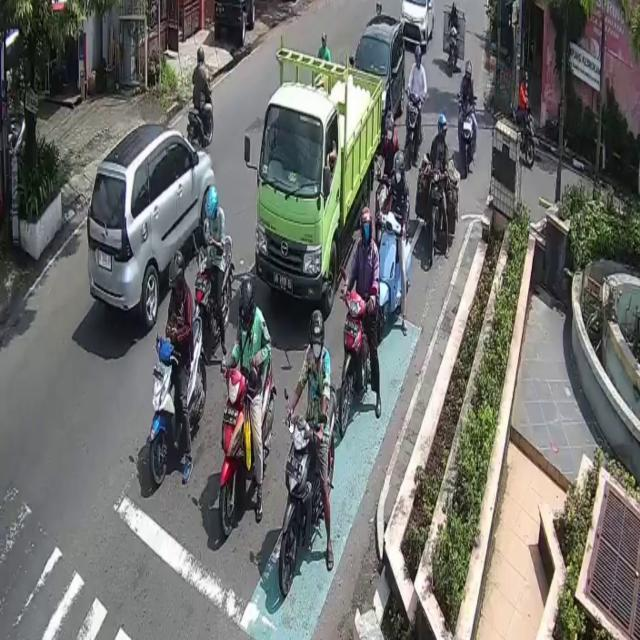car: (86, 118, 217, 325), (351, 14, 406, 142), (400, 0, 436, 57)
motorbike: (279, 383, 339, 596), (148, 313, 208, 488), (221, 349, 276, 537), (339, 294, 380, 434), (190, 234, 233, 344), (376, 210, 409, 334), (508, 97, 538, 172), (186, 84, 216, 148), (428, 165, 447, 264), (458, 99, 477, 178), (406, 89, 422, 166), (450, 26, 460, 77)
truck: (256, 45, 384, 313)
